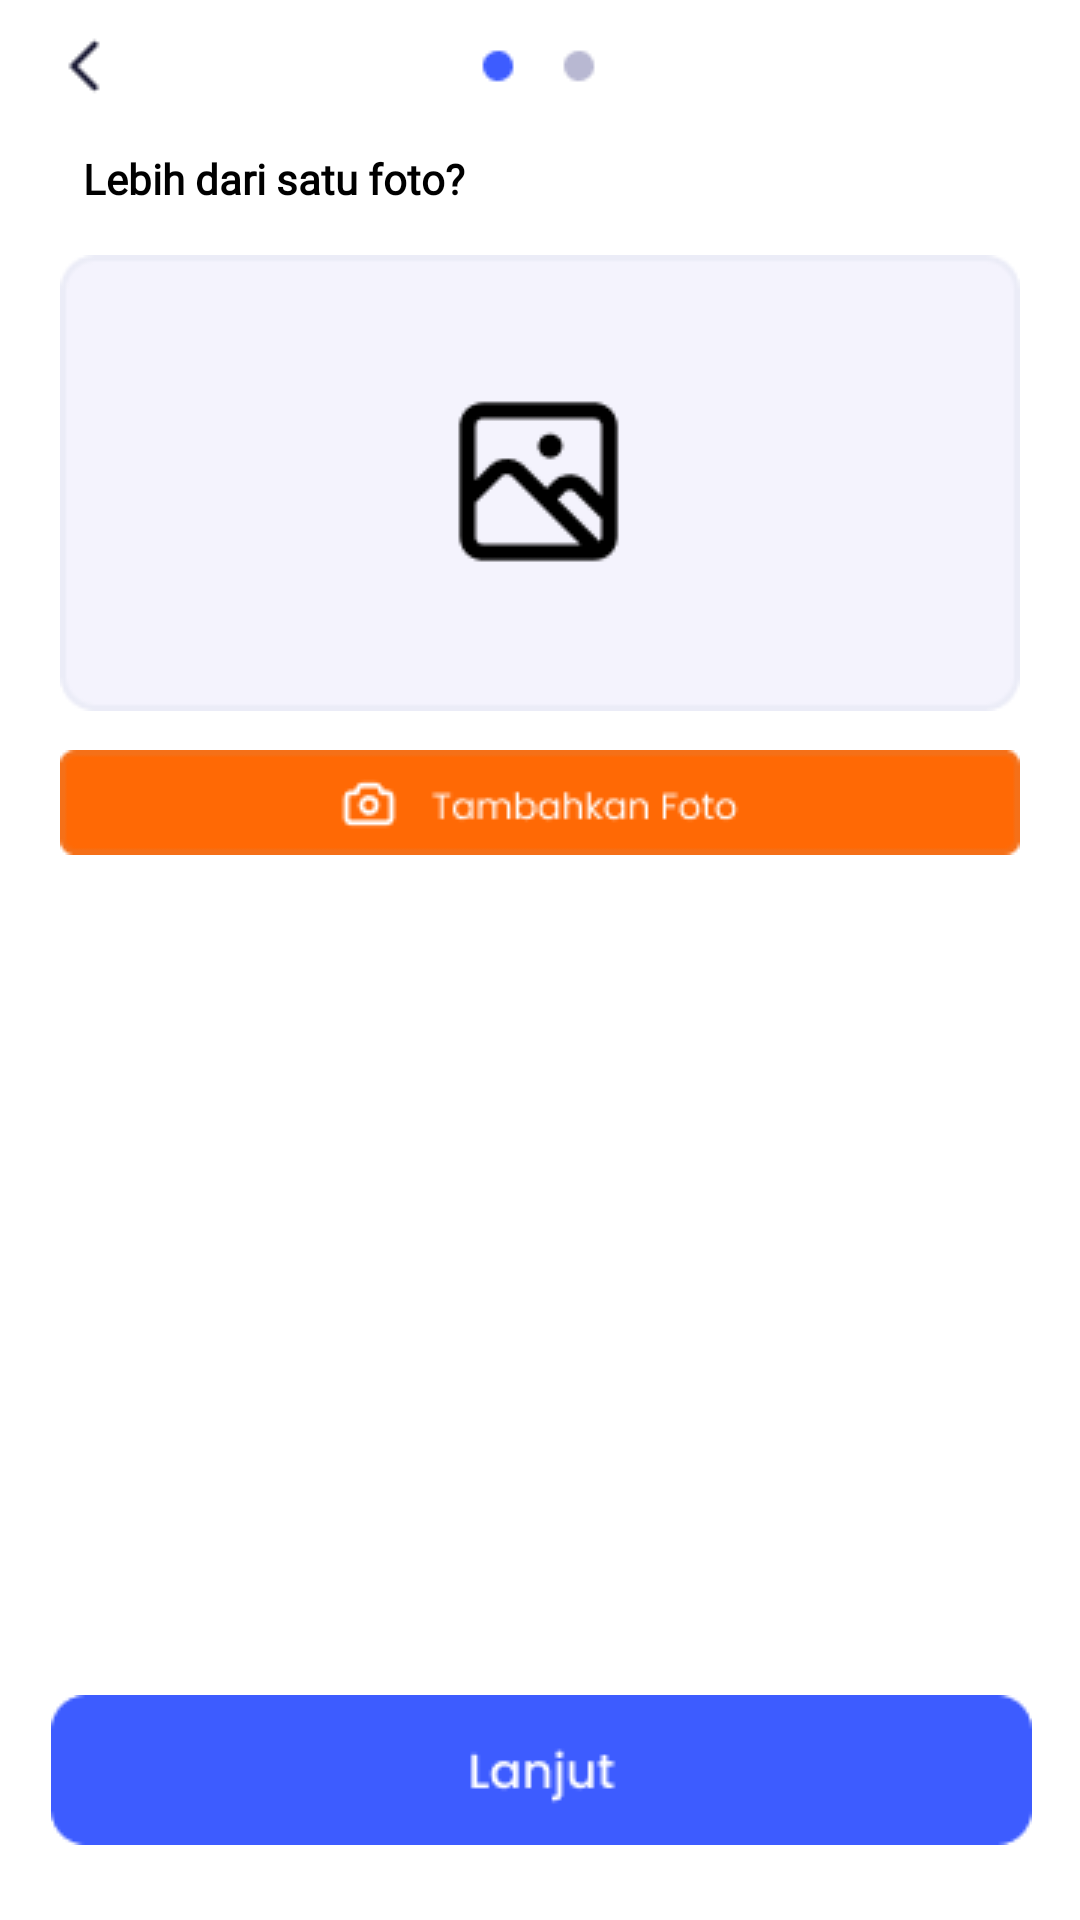

Icon click points for this 1080*1920 phone screenshot, format (x,y):
hasilupload tanyatutor: (538,481)
